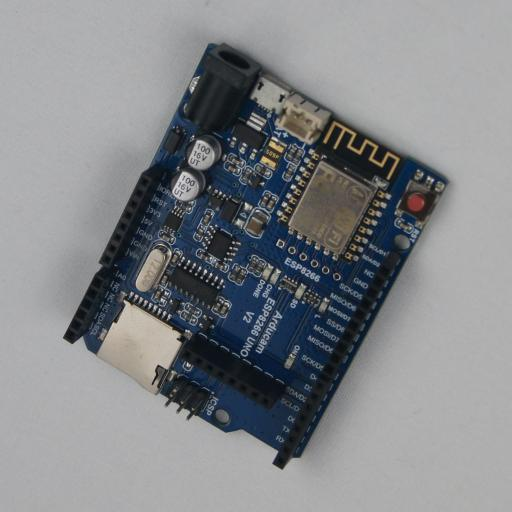Arduino Uno Camera Shield: (63, 43, 449, 469)
